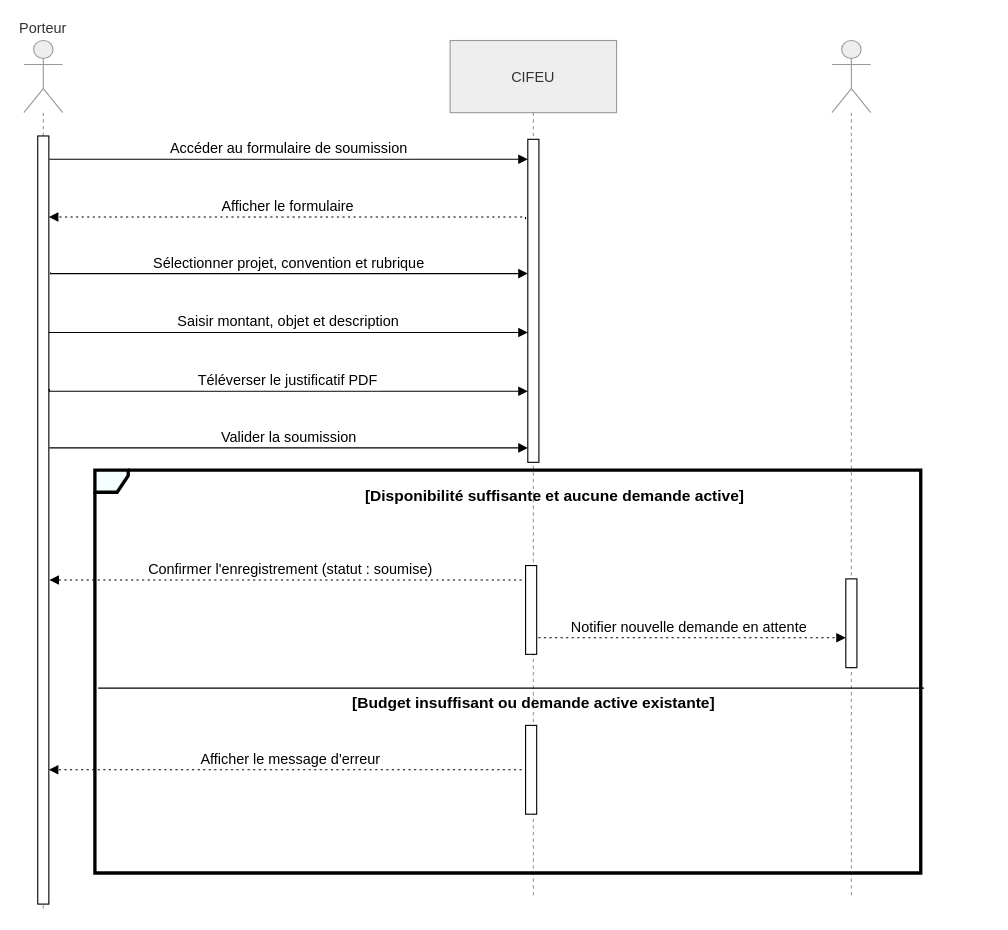
Some shapes in this 1008 by 930 pixel diagram are drawn without their labels. Each missing label, with the box of its shape:
alt: (93, 468, 922, 874)
DAF: (831, 39, 871, 897)
